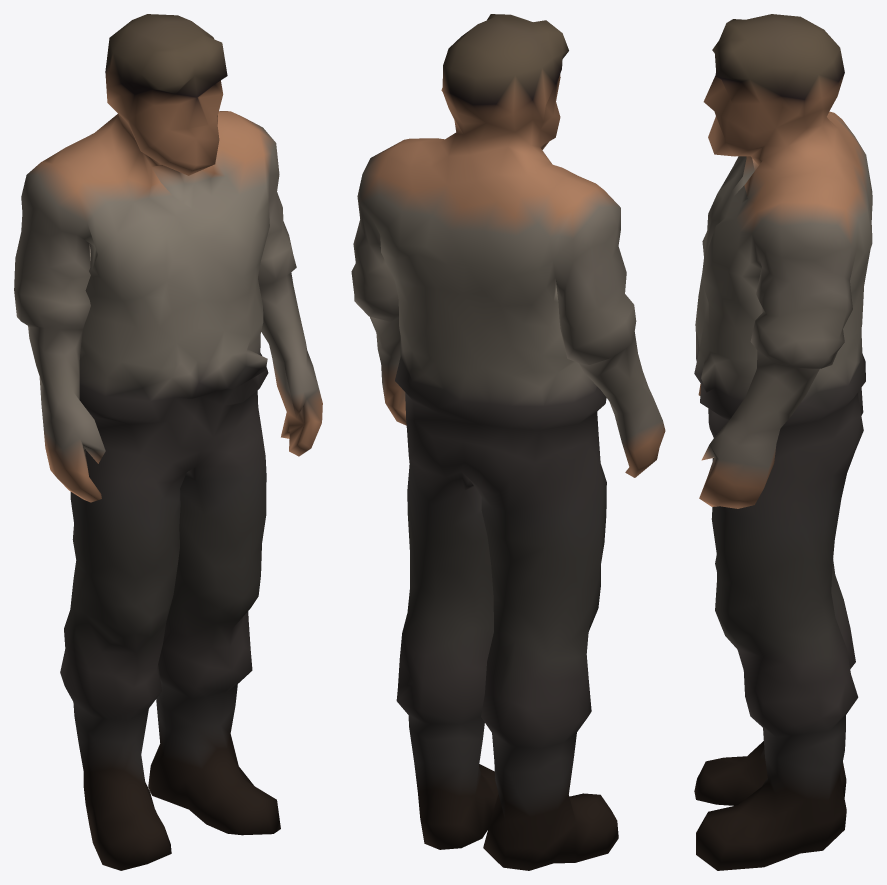
Rendered from stonemason.glb.
3 renders of one model, left to right at view 1: azimuth 30°, elevation 25°; view 2: azimuth 150°, elevation 25°; view 3: azimuth 270°, elevation 25°, orthographic.
Parts seen in each view (by area): view 1: body; view 2: body; view 3: body.
Boxes of the visible parts, x1,y1,x2,y2 form: body: [14, 14, 322, 870]; body: [351, 14, 665, 870]; body: [694, 14, 872, 870].
Size of the model in its own units: 0.6065 by 1.75 by 0.3493.
